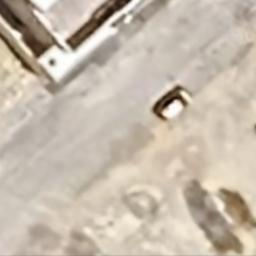van: (151, 85, 194, 122)
